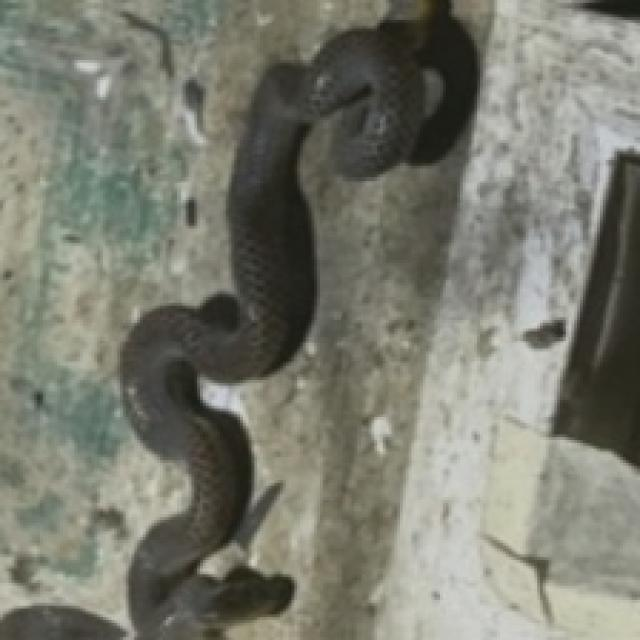gervais worm snake: (120, 0, 477, 637)
